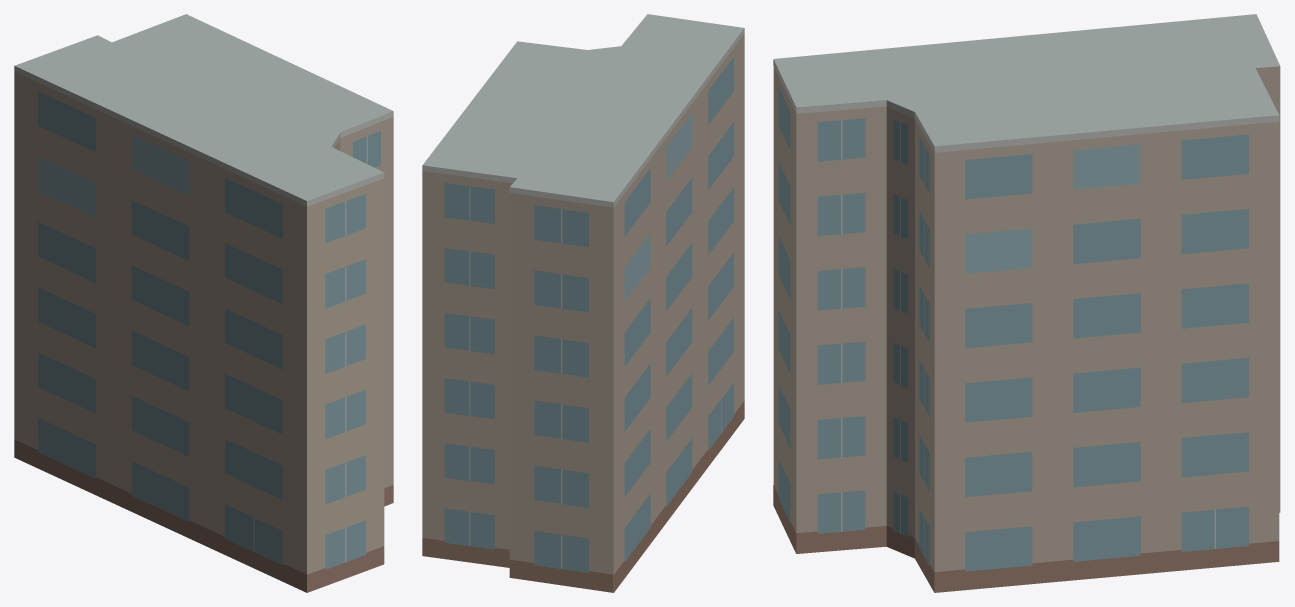
Rendered from survey-upis-32809009.glb.
3 renders of one model, left to right at view 1: azimuth 30°, elevation 25°; view 2: azimuth 150°, elevation 25°; view 3: azimuth 270°, elevation 25°, orthographic. The views are drawn at different scales.
Parts seen in each view (by area): view 1: survey-upis-32809009.tmp; view 2: survey-upis-32809009.tmp; view 3: survey-upis-32809009.tmp.
Part boxes in pixels (left/top/right/bottom): survey-upis-32809009.tmp: left=14, top=14, right=393, bottom=592; survey-upis-32809009.tmp: left=422, top=14, right=744, bottom=592; survey-upis-32809009.tmp: left=773, top=14, right=1280, bottom=592.
Size of the model in its own units: 10.75 by 16.9 by 17.4.
